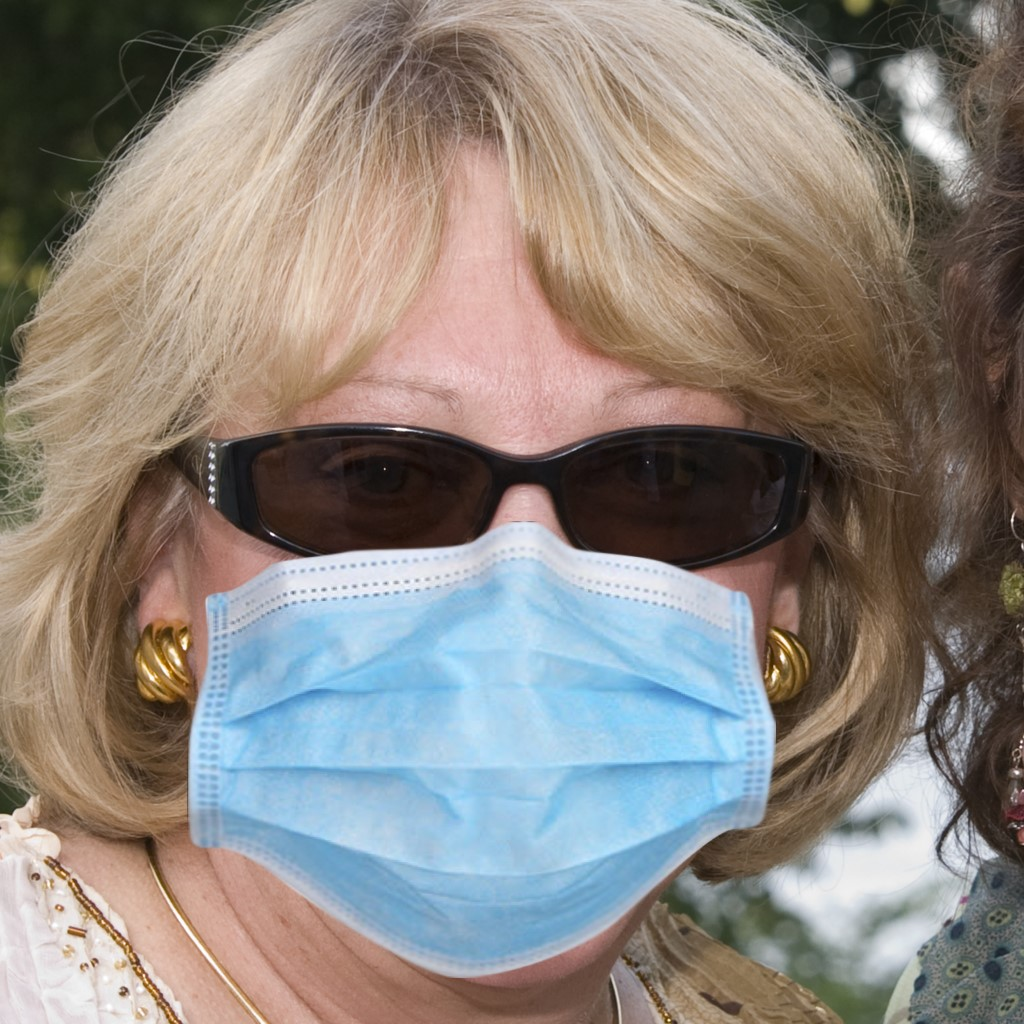con_mascara: (173, 116, 832, 996)
